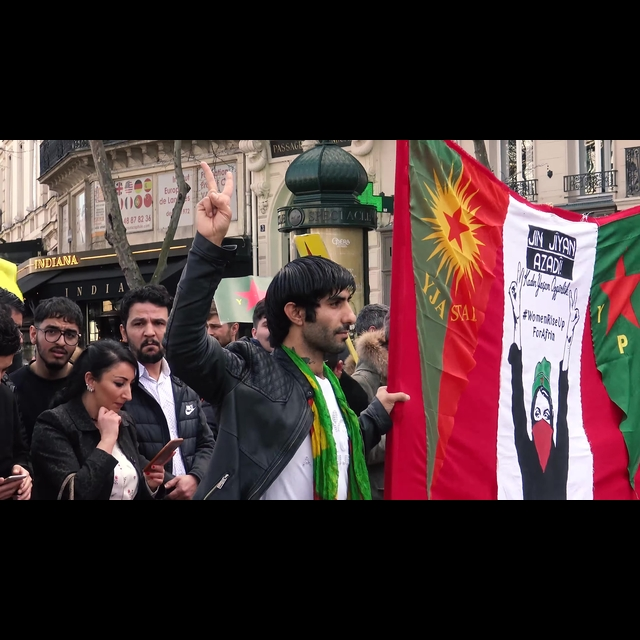ZI: (185, 156, 240, 261)
